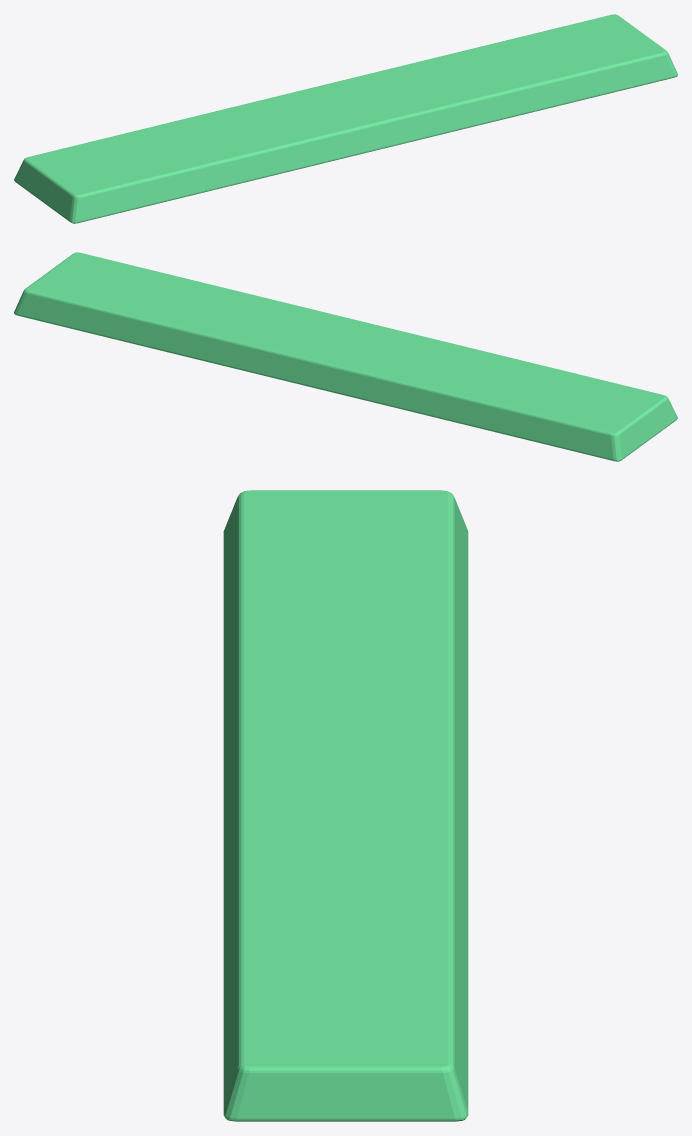
The model's file is laptop_button.glb.
The picture shows the model from 3 angles, top to bottom: view 1: azimuth 30°, elevation 25°; view 2: azimuth 150°, elevation 25°; view 3: azimuth 270°, elevation 25°; orthographic projection. The views are drawn at different scales.
Parts seen in each view (by area): view 1: Laptop_Button14; view 2: Laptop_Button14; view 3: Laptop_Button14.
Boxes of the visible parts, box(x1,y1,x2,y2) form: Laptop_Button14: box(14, 14, 677, 223); Laptop_Button14: box(14, 252, 677, 461); Laptop_Button14: box(223, 490, 468, 1121).
Bounding box in the file's own units: 2.14 × 0.0797 × 0.3728.
